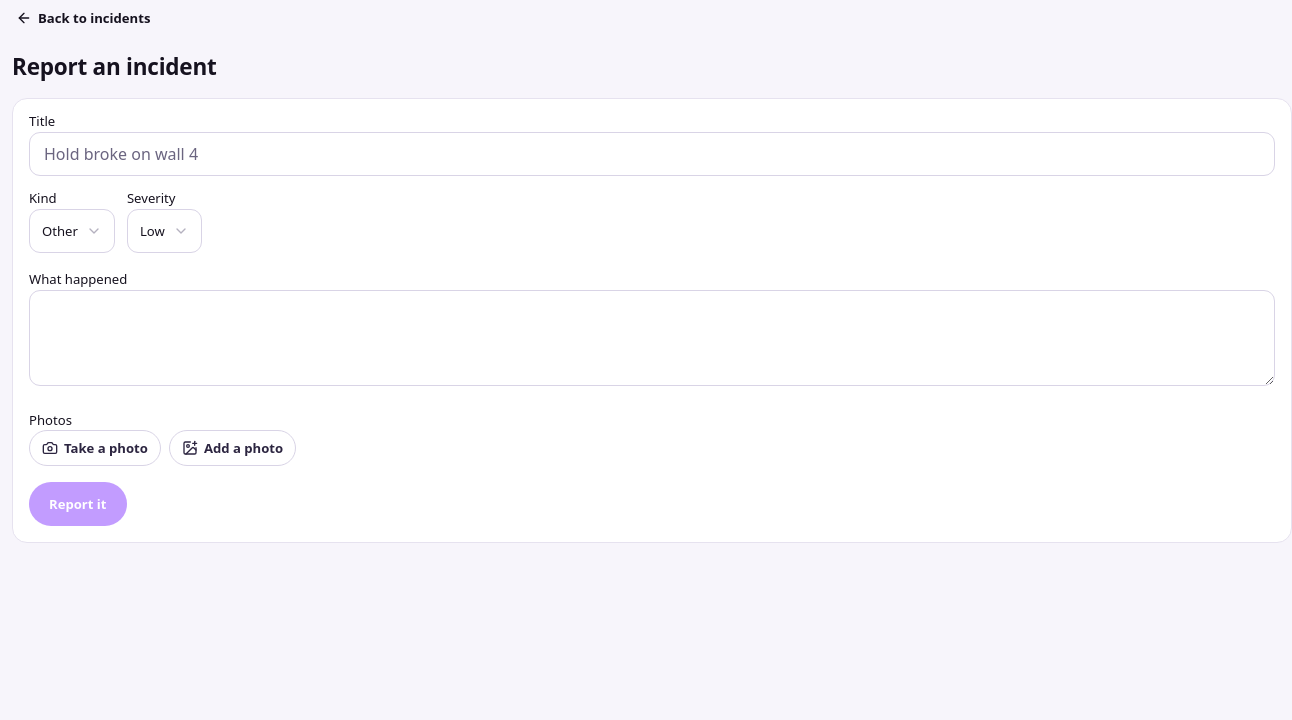
it: reporting one › says what is missing instead of a dead button
This screenshot has width=1292, height=720.
Type "x" into the field labelled "Title" at {"x": 652, "y": 154}, box left=29, top=132, right=1275, bottom=176
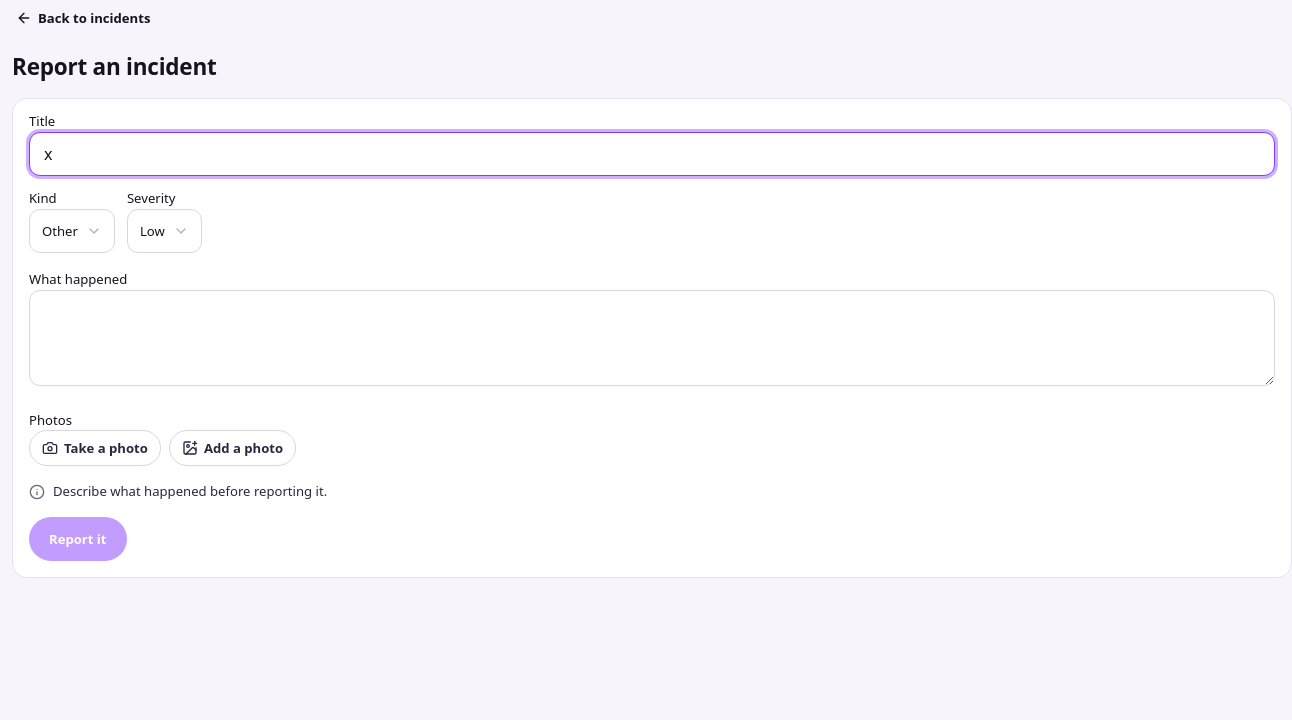
Clear the field labelled "Title" at {"x": 652, "y": 154}, box left=29, top=132, right=1275, bottom=176
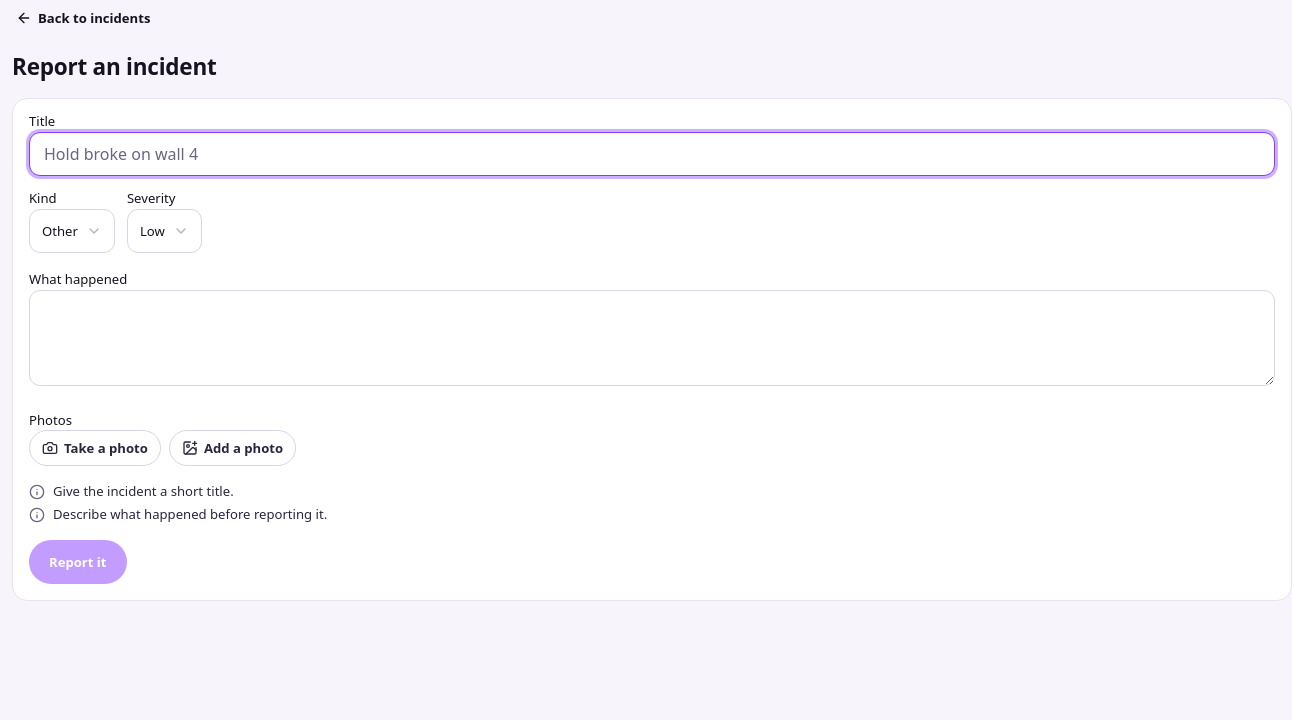
Expected: the button "Report it" is disabled, left=29, top=540, right=127, bottom=584
Now the list item "Give the incident a short title." is shown, box left=29, top=482, right=234, bottom=500
